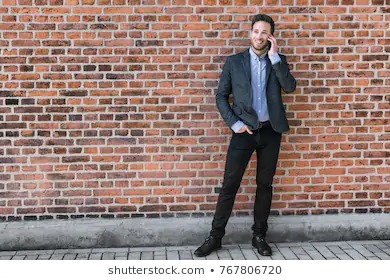F_M_suit jacket: (212, 45, 299, 137)
F_dress pants: (211, 121, 281, 239)
